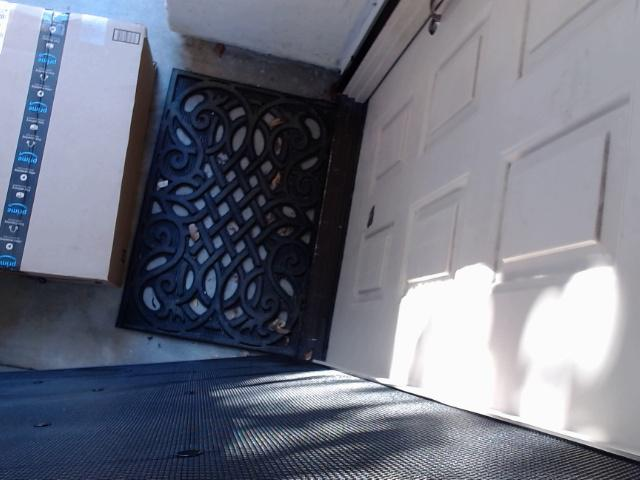box: (0, 0, 214, 314)
